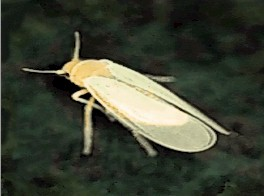whitefly: (24, 29, 232, 158)
